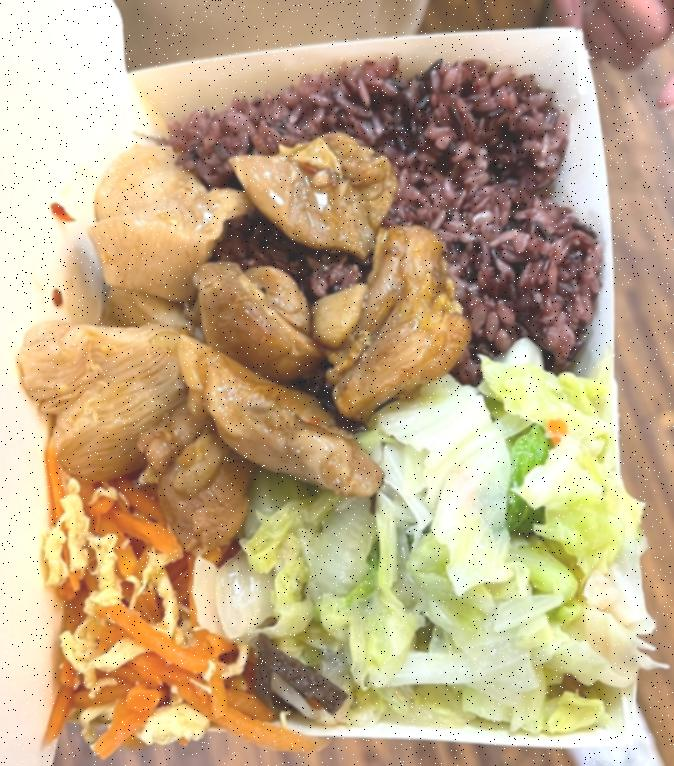big grilled chicken leg: (67, 2, 645, 761)
braised fish: (179, 58, 594, 380)
braised fish fillet: (253, 369, 636, 738), (52, 476, 250, 752)
braised pork: (26, 132, 459, 540)
